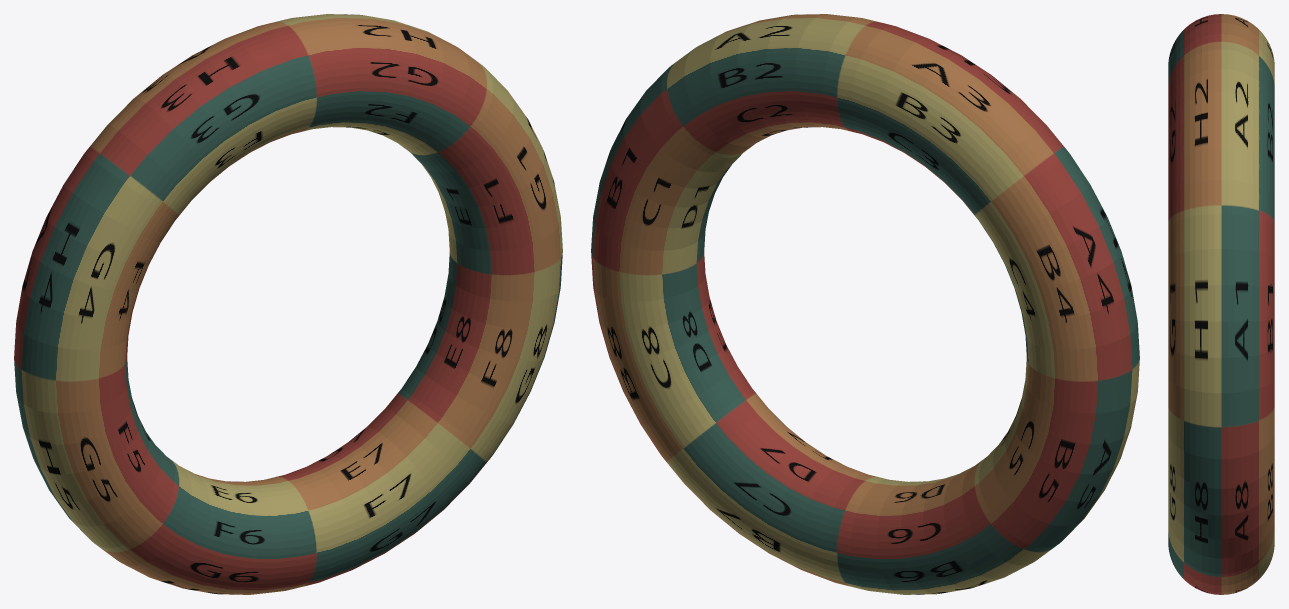
File: texture_torus_R9_r6.glb
3 renders of one model, left to right at view 1: azimuth 30°, elevation 25°; view 2: azimuth 150°, elevation 25°; view 3: azimuth 270°, elevation 25°, orthographic. The views are drawn at different scales.
Visible parts, largest first — view 1: world; view 2: world; view 3: world.
Boxes of the visible parts, x1=… form: world: x1=14, y1=14, x2=562, y2=594; world: x1=591, y1=14, x2=1139, y2=594; world: x1=1168, y1=14, x2=1274, y2=594.
Size of the model in its own units: 19.6 by 19.56 by 3.59.
1 material, 1 textured.
